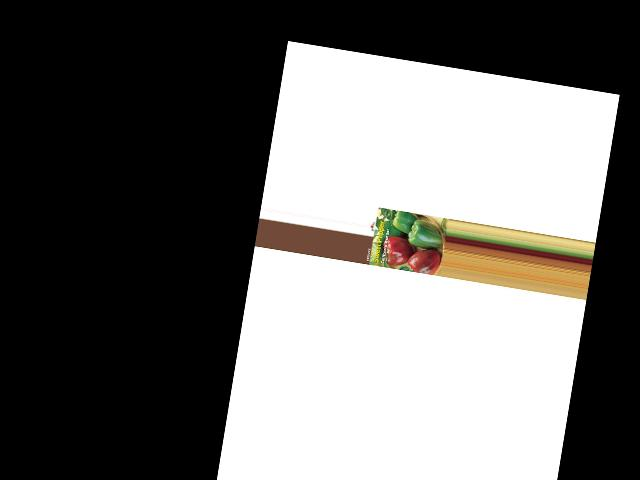bell_pepper: (389, 208, 423, 233)
